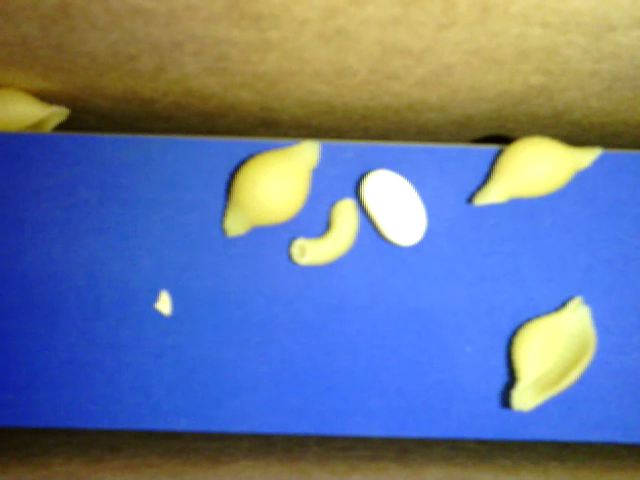elbow: (282, 194, 361, 269)
shell: (503, 292, 604, 416), (467, 126, 608, 214), (220, 139, 324, 242), (3, 85, 80, 133)
